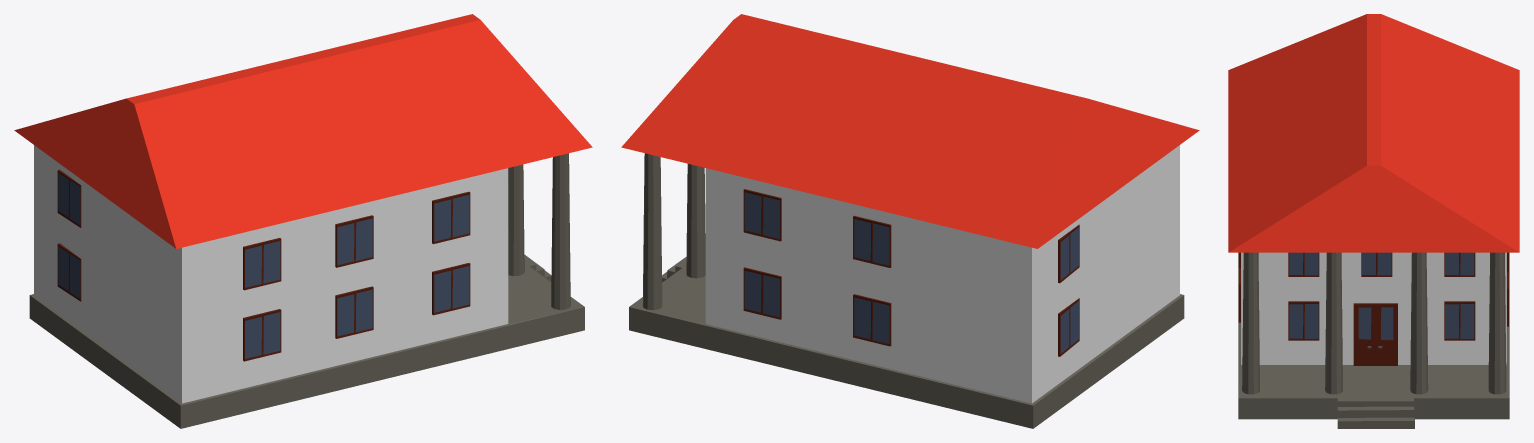
File: Bank.glb
3 views of the same model, side by side, from view 1: azimuth 30°, elevation 25°; view 2: azimuth 150°, elevation 25°; view 3: azimuth 270°, elevation 25° (orthographic). The views are drawn at different scales.
Parts seen in each view (by area): view 1: Cube.012; view 2: Cube.012; view 3: Cube.012.
Boxes of the visible parts, left/top/right/bottom form: Cube.012: left=14, top=14, right=592, bottom=428; Cube.012: left=621, top=14, right=1199, bottom=428; Cube.012: left=1228, top=14, right=1519, bottom=428.
Size of the model in its own units: 3.1 by 1.81 by 1.99.
